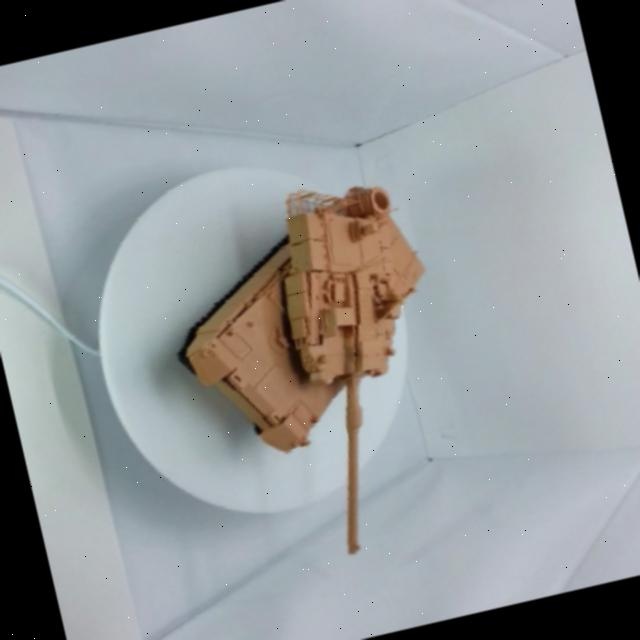korea tank: (121, 146, 513, 598)
